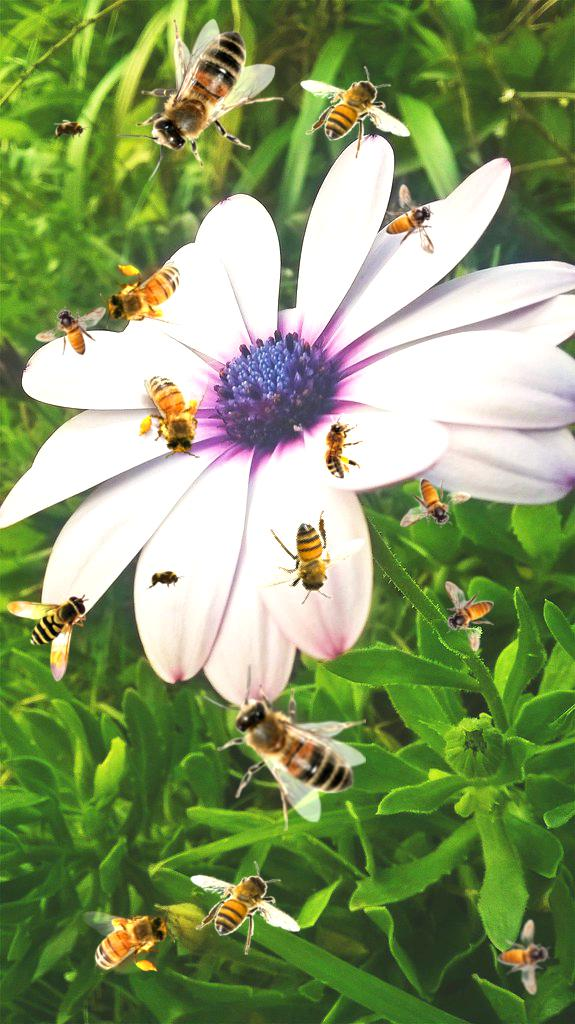Bee: (204, 664, 366, 831), (117, 19, 284, 181), (232, 487, 377, 633), (190, 861, 301, 955), (300, 66, 411, 160), (131, 360, 215, 465), (7, 594, 89, 682), (82, 907, 175, 975), (100, 261, 193, 329), (488, 912, 562, 997), (385, 184, 435, 255), (444, 581, 494, 652), (35, 306, 106, 356), (400, 478, 471, 528), (318, 413, 363, 479), (145, 568, 185, 590), (50, 119, 90, 141)
